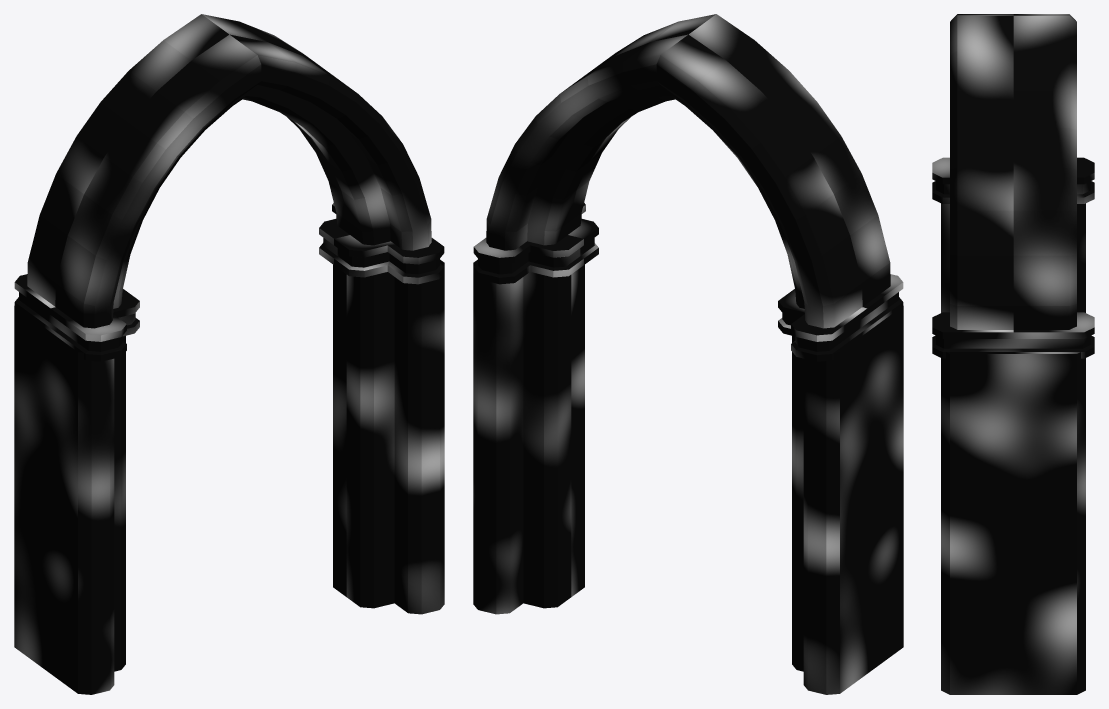
Rendered from Doorway.fbx.
3 renders of one model, left to right at view 1: azimuth 30°, elevation 25°; view 2: azimuth 150°, elevation 25°; view 3: azimuth 270°, elevation 25°, orthographic.
Parts seen in each view (by area): view 1: Doorway; view 2: Doorway; view 3: Doorway.
Part boxes in pixels (x1=…): Doorway: x1=14, y1=14, x2=444, y2=694; Doorway: x1=473, y1=14, x2=903, y2=694; Doorway: x1=932, y1=14, x2=1094, y2=694.
Size of the model in its own units: 4.07 by 6.27 by 1.56.
